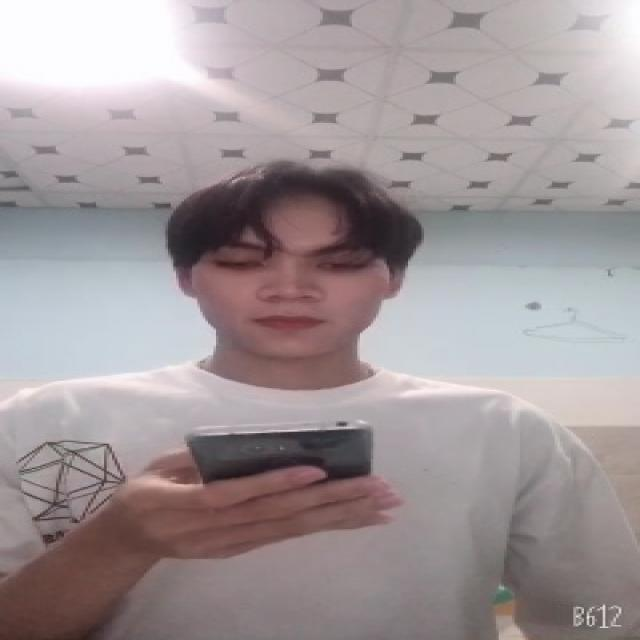Phone: (184, 416, 378, 495)
